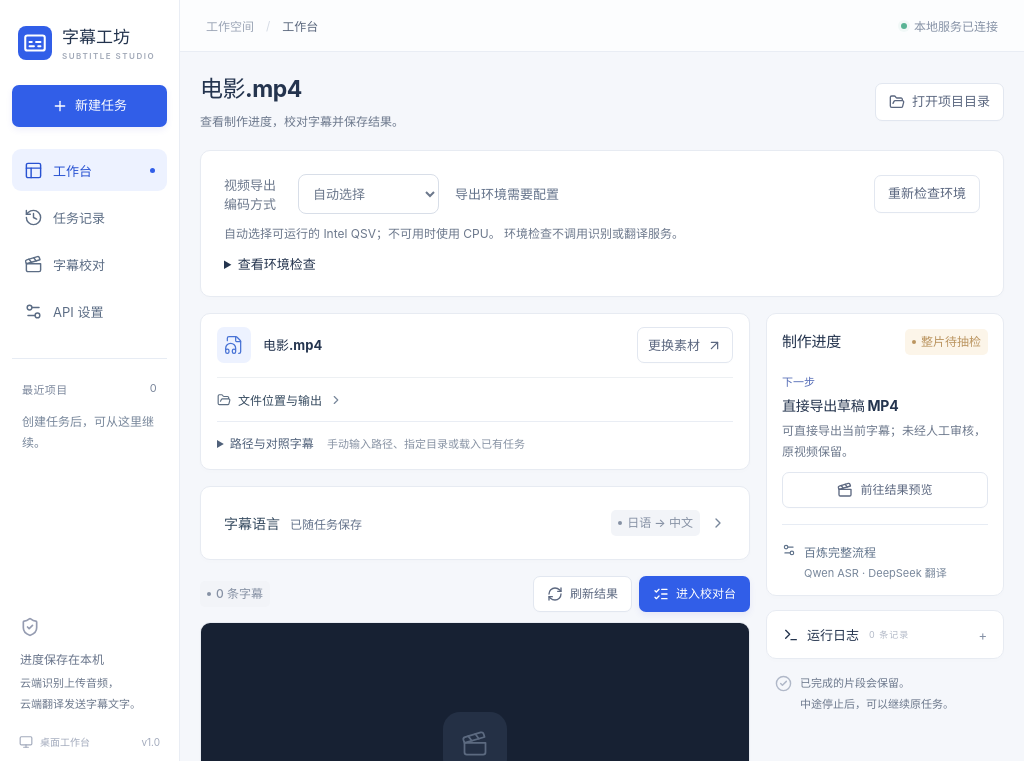
桌面工作台的真实操作边界 › stays in review when starting a draft export is rejected
Click the button "进入校对台".
click(694, 594)  # box [639, 576, 750, 612]
(page scrolled)
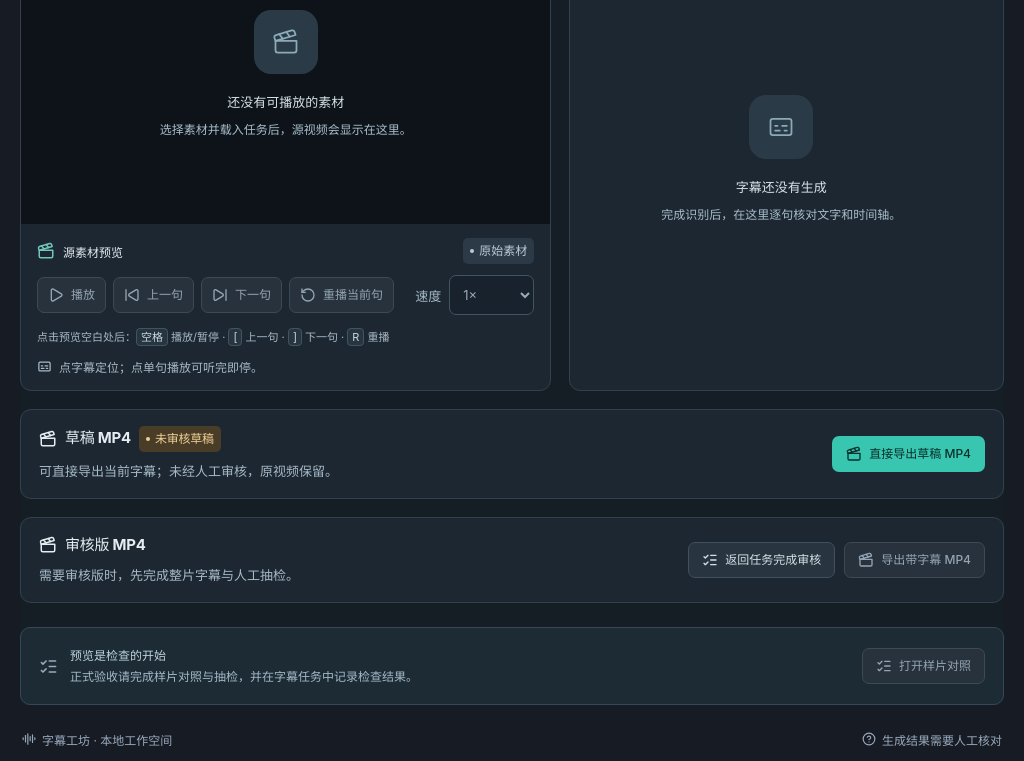
Click the button "直接导出草稿 MP4".
click(909, 454)  # box [832, 436, 985, 472]
(page scrolled)
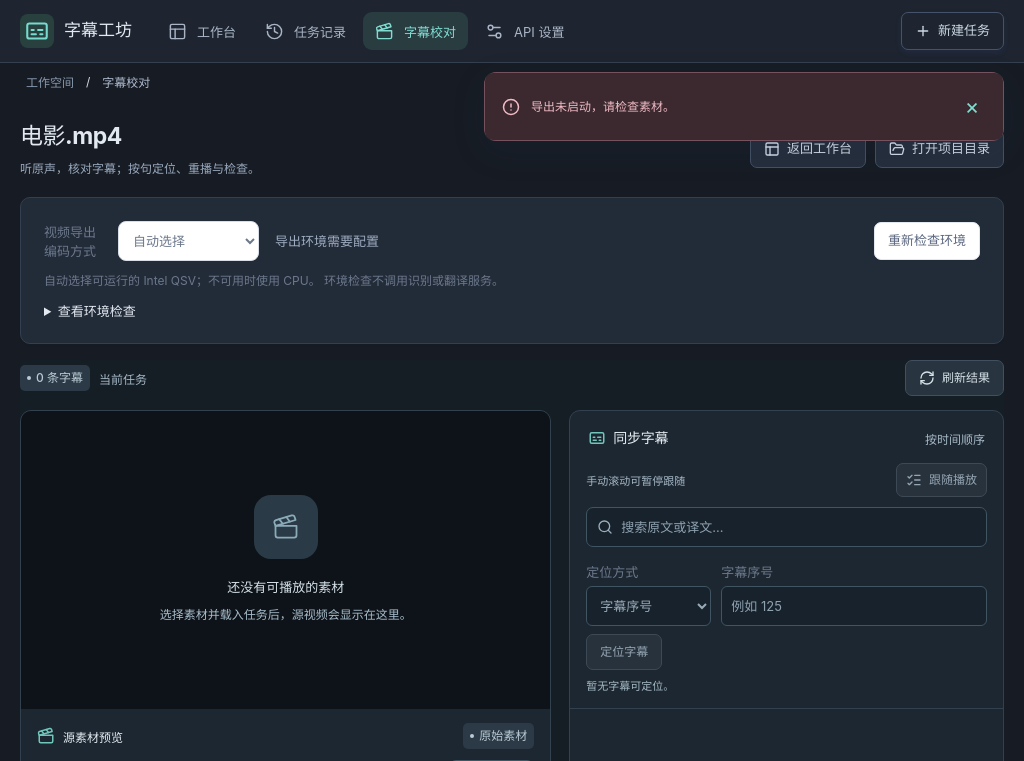
Check: the text "制作进度" is not shown
Check: the message "导出未启动，请检查素材。 ×" is shown, box [484, 72, 1004, 141]
